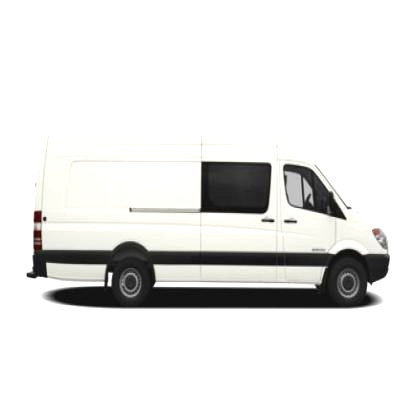Vehicle: (26, 127, 393, 312)
